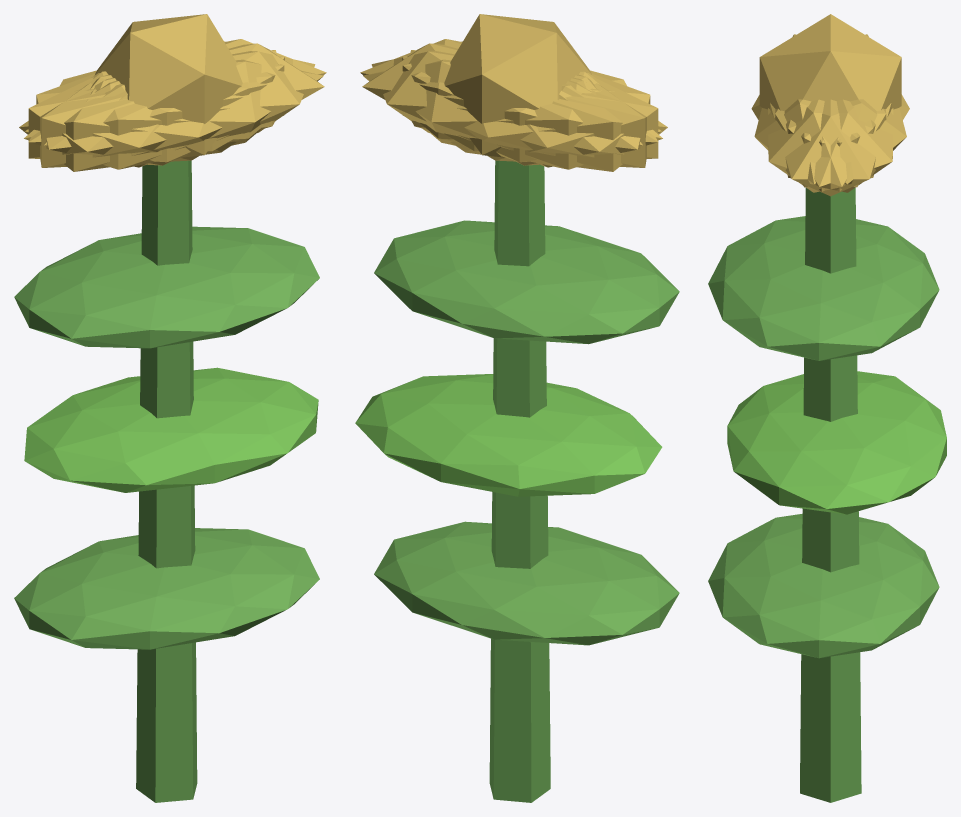
The model's file is dioscorea-bulbifera.glb.
3 views of the same model, side by side, from view 1: azimuth 30°, elevation 25°; view 2: azimuth 150°, elevation 25°; view 3: azimuth 270°, elevation 25° (orthographic).
Visible parts, largest first — view 1: leaf2, leaf0, leaf1, stem, center, petal1, petal6, petal2, petal5, petal7, petal0, petal4 (+2 smaller); view 2: leaf2, leaf1, leaf0, stem, center, petal8, petal3, petal7, petal4, petal2, petal0, petal5 (+2 smaller); view 3: leaf2, leaf1, leaf0, stem, center, petal0, petal5, petal4, petal1, petal8.
Boxes of the visible parts, x1,y1,x2,y2 form: leaf2: [14, 226, 319, 348]; leaf0: [14, 528, 319, 649]; leaf1: [24, 367, 318, 492]; stem: [136, 160, 197, 802]; center: [94, 14, 242, 157]; petal1: [24, 59, 323, 169]; petal6: [19, 73, 236, 171]; petal2: [40, 50, 276, 167]; petal5: [44, 51, 315, 162]; petal7: [28, 56, 284, 165]; petal0: [94, 43, 324, 151]; petal4: [25, 39, 326, 142]; leaf2: [374, 220, 679, 344]; leaf1: [355, 374, 662, 496]; leaf0: [374, 521, 679, 645]; stem: [489, 160, 550, 802]; center: [444, 14, 591, 157]; petal8: [363, 59, 662, 169]; petal3: [450, 73, 667, 171]; petal7: [410, 50, 646, 167]; petal4: [371, 51, 642, 162]; petal2: [402, 56, 658, 165]; petal0: [362, 43, 592, 151]; petal5: [360, 39, 661, 142]; leaf2: [708, 216, 939, 360]; leaf1: [727, 371, 946, 514]; leaf0: [708, 513, 939, 658]; stem: [800, 187, 861, 802]; center: [759, 14, 901, 110]; petal0: [770, 99, 891, 196]; petal5: [768, 99, 886, 192]; petal4: [775, 99, 893, 192]; petal1: [754, 99, 875, 184]; petal8: [786, 99, 906, 184].
Size of the model in its own units: 0.1452 by 0.3602 by 0.1031.
